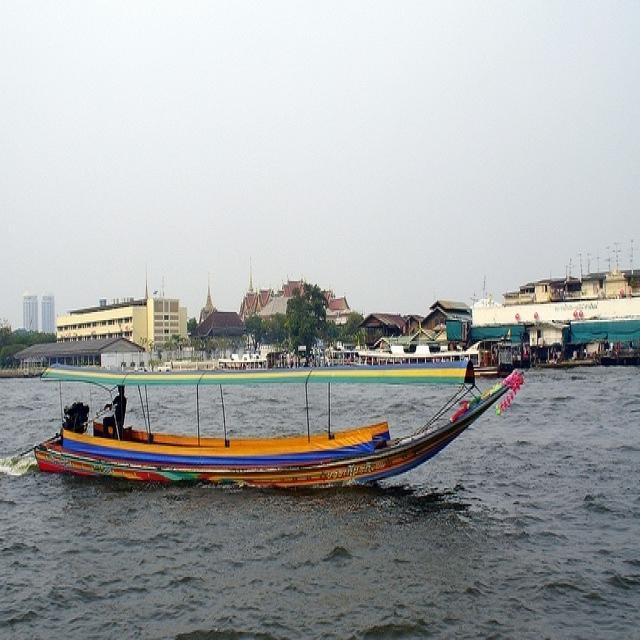boat: (28, 362, 542, 494), (362, 336, 499, 383), (214, 353, 276, 374)
